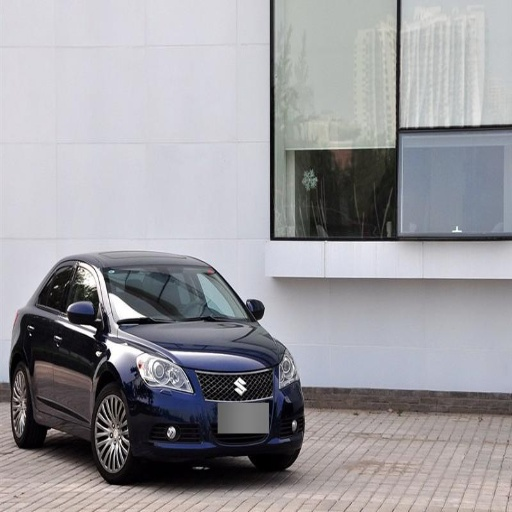front_bumper: (131, 365, 301, 460)
front_right_door: (54, 263, 103, 419)
front_right_light: (137, 349, 191, 391)
hood: (124, 321, 283, 368)
